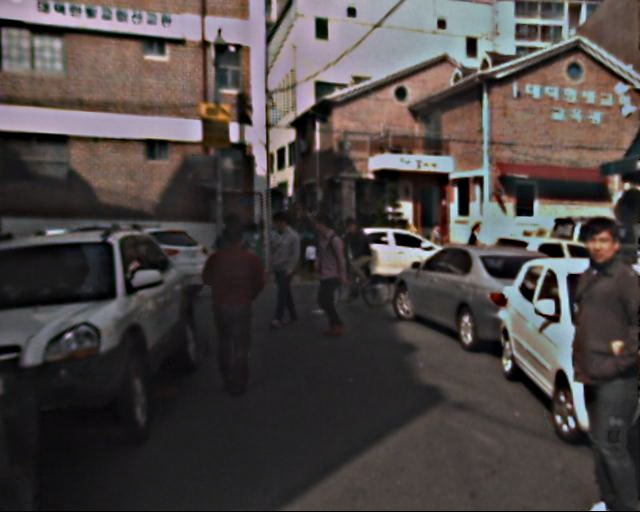person: (552, 214, 640, 508), (199, 227, 268, 396), (204, 214, 261, 352), (302, 215, 352, 338), (258, 213, 306, 331), (340, 216, 373, 296), (462, 222, 489, 287), (424, 221, 449, 282)
